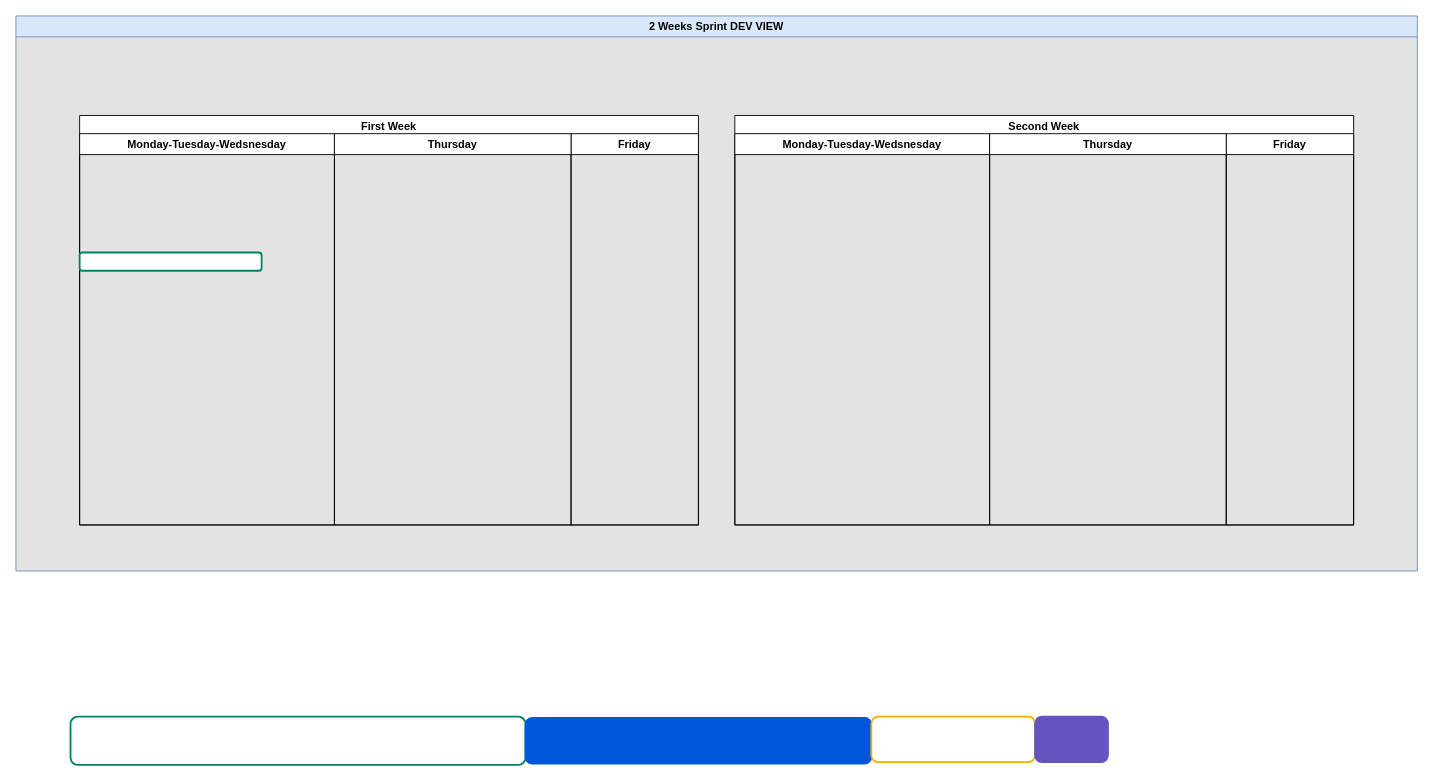
This 1433x782 diagram has some shape labels left out. The box of each missing label's shape, as (x1, y1, x2, y2) in pixels:
MERGE PR: (870, 715, 1036, 763)
New components: (69, 715, 526, 765)
New Features: (78, 251, 262, 271)
QA E2e: (1034, 715, 1108, 763)
Unit Testing Features: (524, 717, 872, 764)
